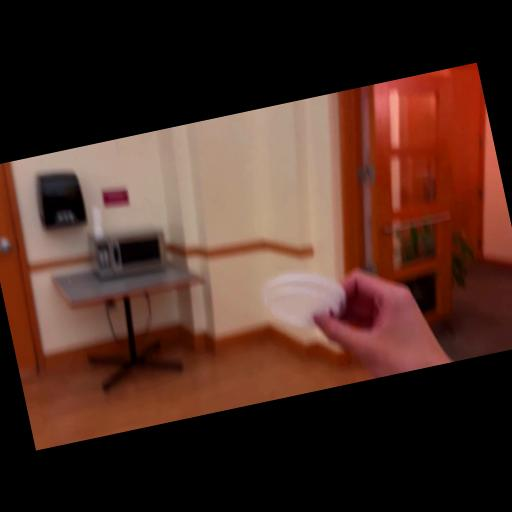lp_cup_lids: (256, 260, 352, 338)
